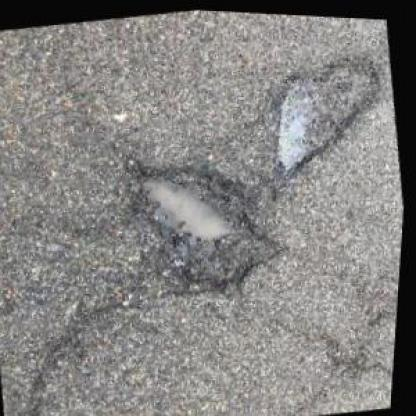pothole: (116, 134, 304, 308), (258, 41, 398, 182)
